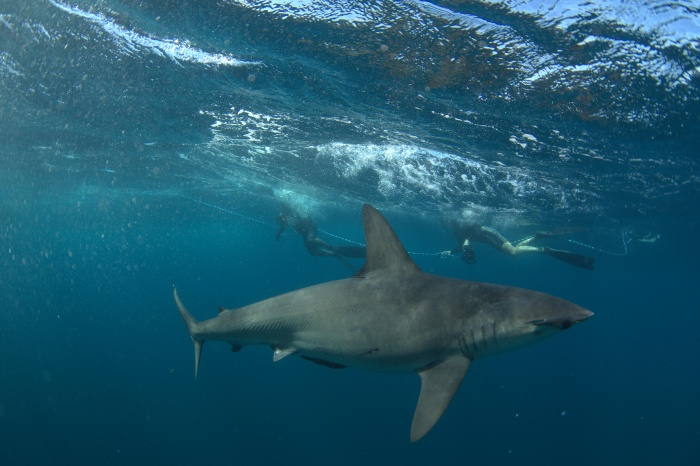Hammer: (139, 192, 617, 444)
